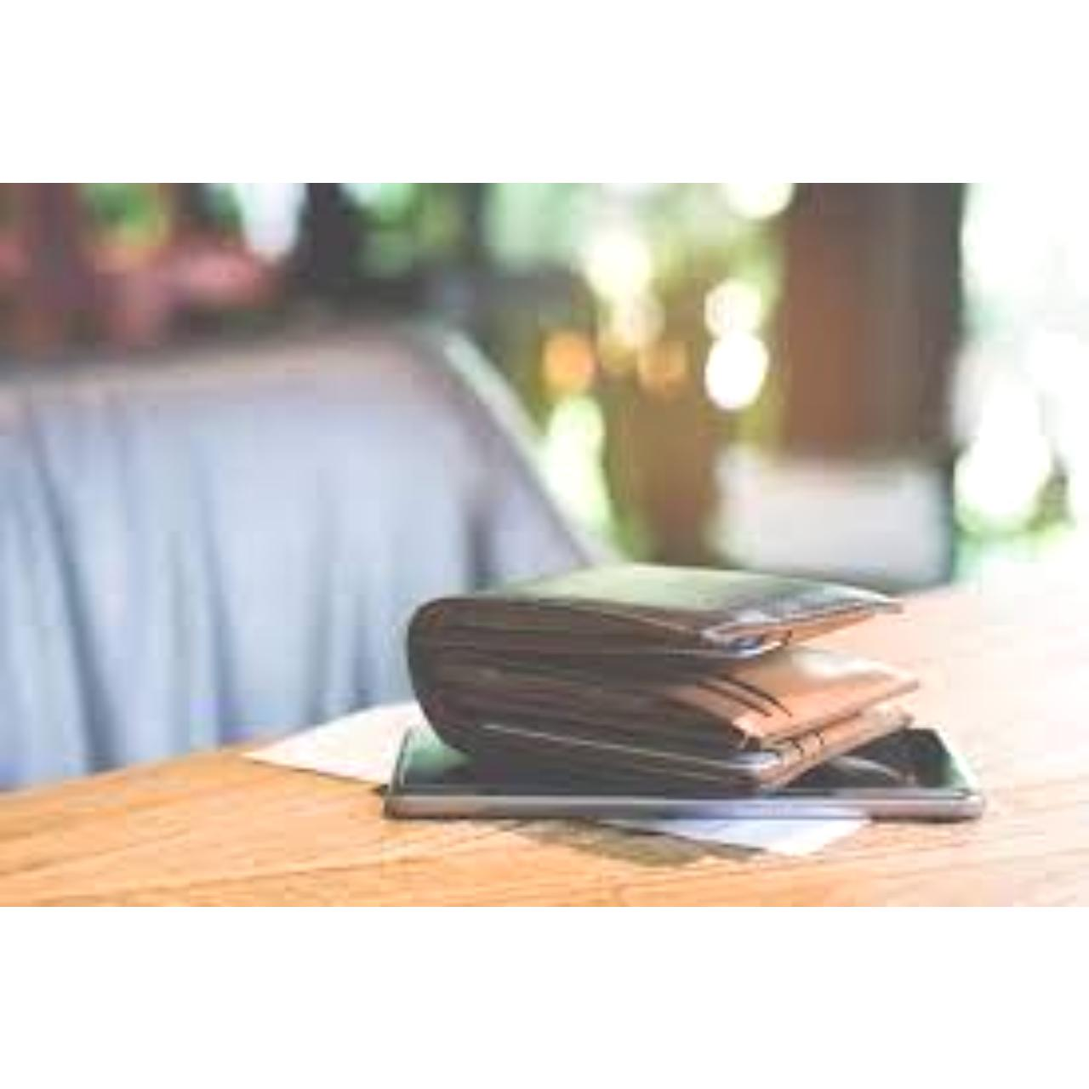wallet: (388, 543, 954, 772)
